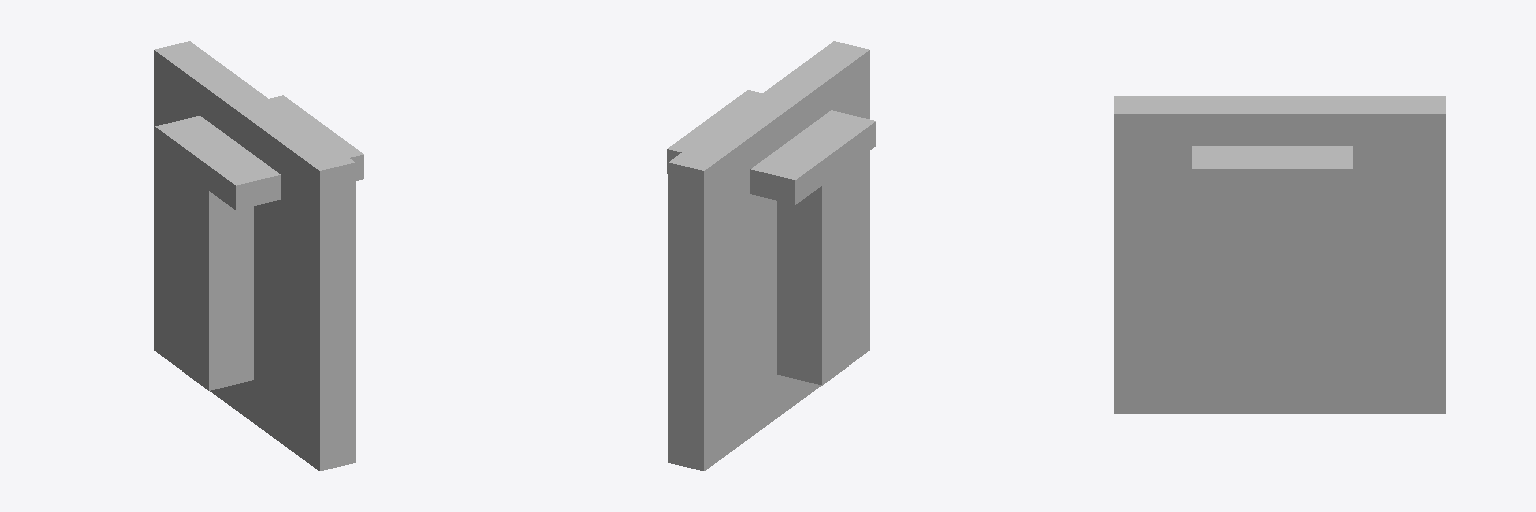
The model's file is letter_T.obj.
3 renders of one model, left to right at view 1: azimuth 30°, elevation 25°; view 2: azimuth 150°, elevation 25°; view 3: azimuth 270°, elevation 25°, orthographic.
Visible parts, largest first — view 1: window, Text; view 2: window, Text; view 3: window, Text.
Boxes of the visible parts, x1,y1,x2,y2 form: window: [154, 41, 355, 470]; Text: [155, 95, 363, 390]; window: [668, 41, 869, 470]; Text: [667, 90, 875, 385]; window: [1114, 96, 1445, 413]; Text: [1192, 146, 1352, 393].
Size of the model in its own units: 0.894 by 2 by 2.